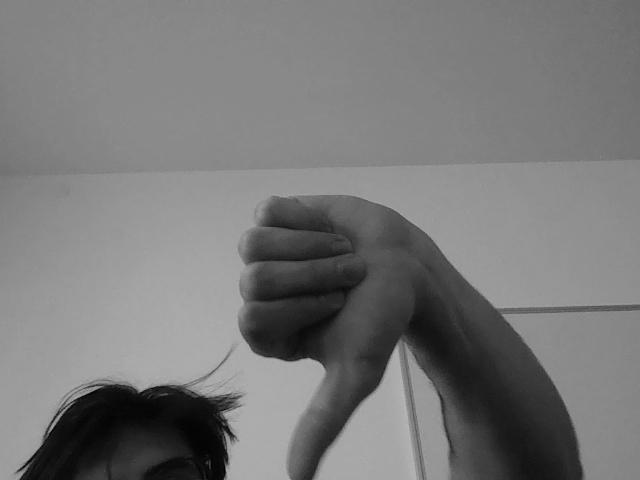bad: (238, 168, 416, 480)
